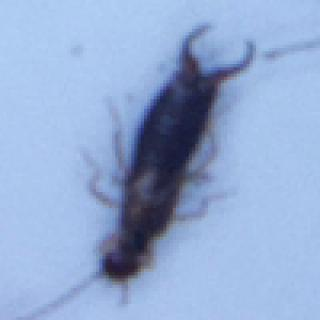earwig: (36, 20, 256, 320)
